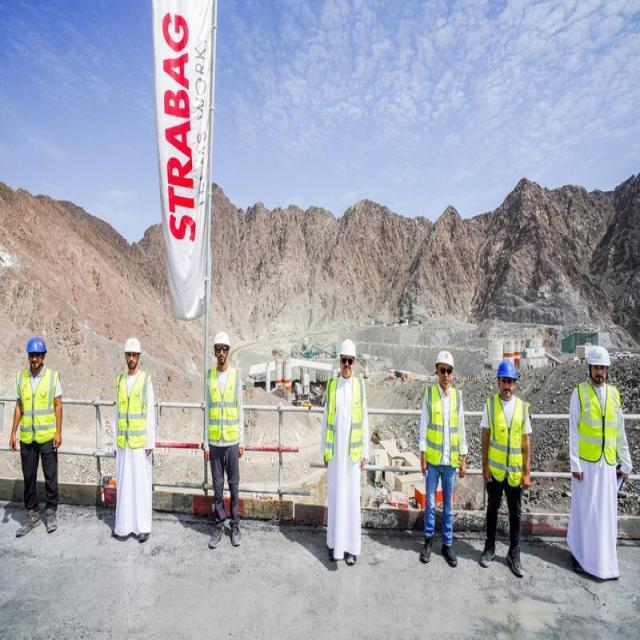blue helmet: (492, 358, 523, 385), (24, 337, 53, 357)
white helmet: (580, 343, 617, 370), (210, 331, 237, 351), (337, 338, 360, 361), (122, 336, 144, 358), (436, 349, 458, 370)
